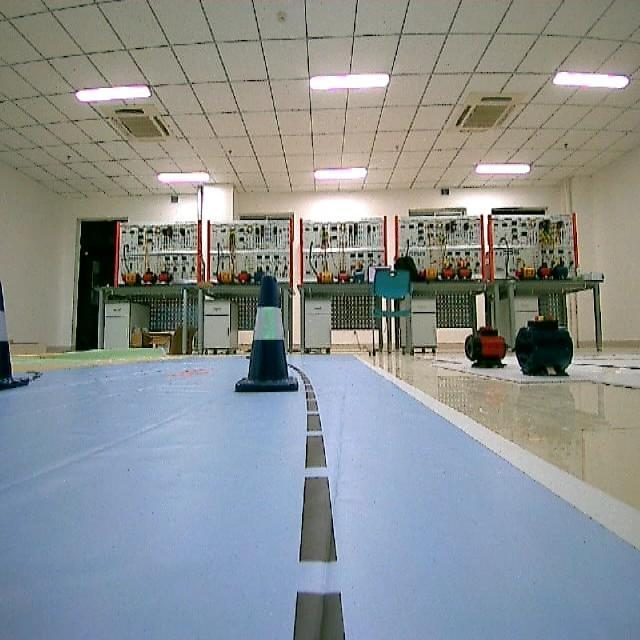obstacle: (236, 278, 304, 398)
